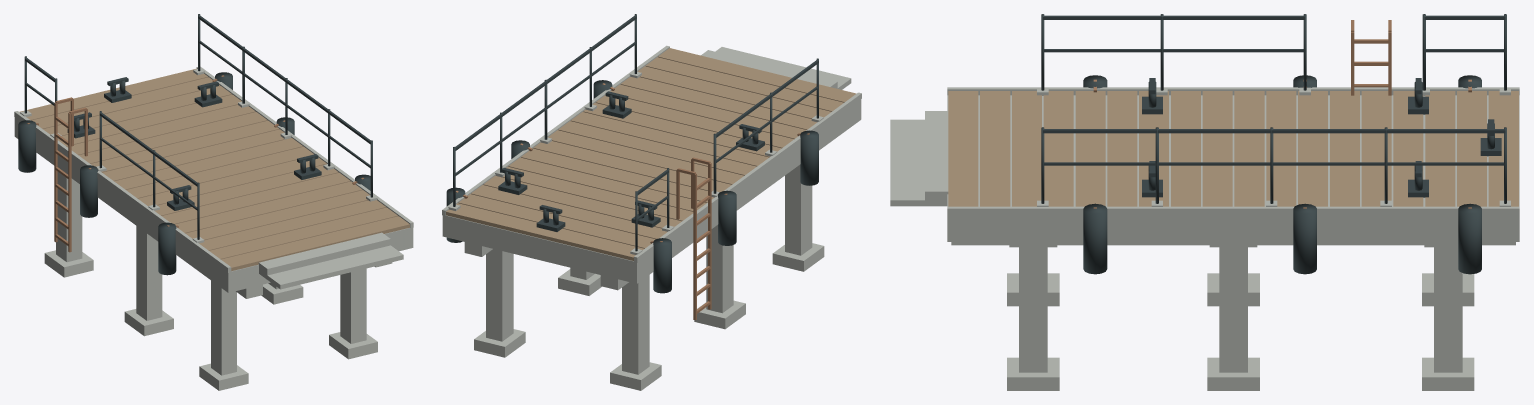
File: ENV_Jetty.fbx
3 views of the same model, side by side, from view 1: azimuth 30°, elevation 25°; view 2: azimuth 150°, elevation 25°; view 3: azimuth 270°, elevation 25° (orthographic). The views are drawn at different scales.
Parts seen in each view (by area): view 1: ENV_Jetty_Root_Visual; view 2: ENV_Jetty_Root_Visual; view 3: ENV_Jetty_Root_Visual.
Part boxes in pixels (<box>): ENV_Jetty_Root_Visual: <box>14,14,413,390</box>; ENV_Jetty_Root_Visual: <box>442,14,861,390</box>; ENV_Jetty_Root_Visual: <box>890,14,1519,390</box>.
Bounding box in the file's own units: 344 × 310 × 660.
